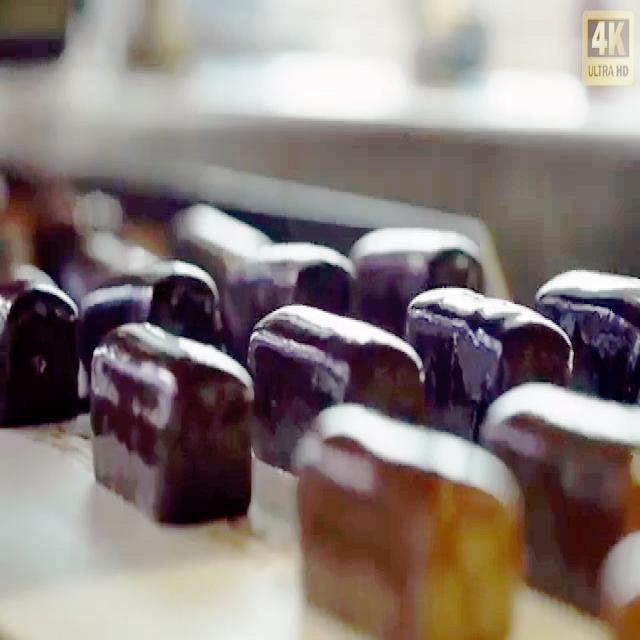Choco: (292, 398, 524, 635), (87, 316, 254, 524), (496, 366, 640, 598), (246, 297, 426, 471), (404, 279, 574, 414), (77, 264, 226, 404), (224, 238, 347, 368), (542, 257, 639, 405), (348, 216, 491, 314), (6, 266, 81, 440)
